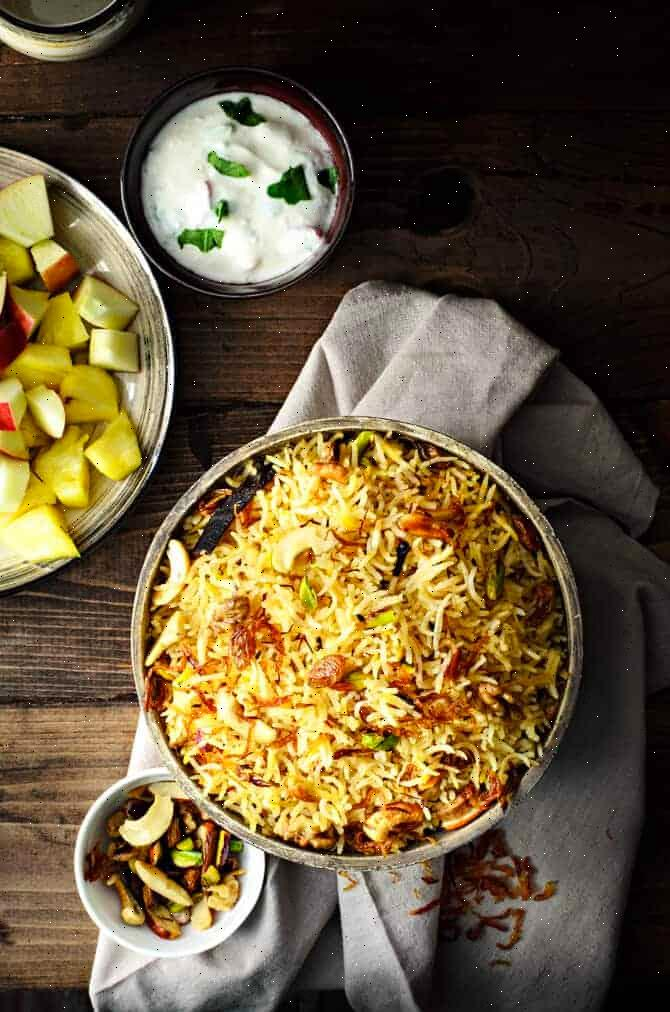veg-pulao: (155, 436, 548, 859)
yogurt: (137, 99, 337, 280)
